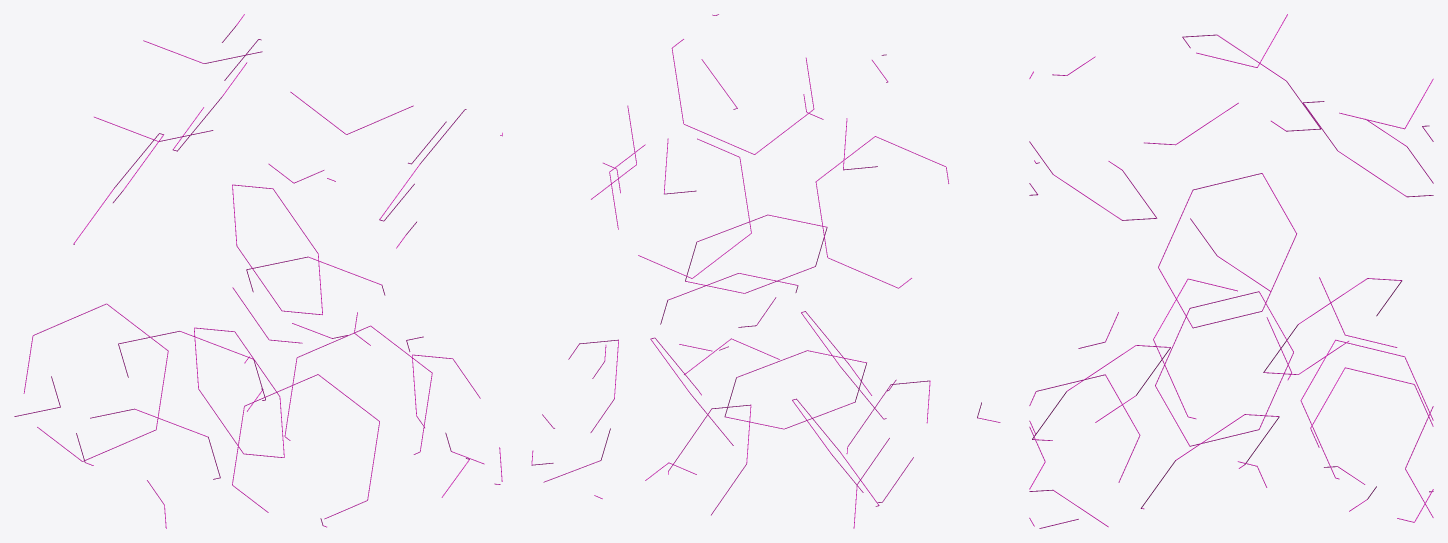
The model's file is large_DDD_model.glb.
The picture shows the model from 3 angles, left to right: view 1: azimuth 30°, elevation 25°; view 2: azimuth 150°, elevation 25°; view 3: azimuth 270°, elevation 25°; orthographic projection. The views are drawn at different scales.
Parts seen in each view (by area): view 1: Shape_IndexedLineSet.001; view 2: Shape_IndexedLineSet.001; view 3: Shape_IndexedLineSet.001.
Part boxes in pixels (bbox=[...]): Shape_IndexedLineSet.001: bbox=[14, 14, 502, 528]; Shape_IndexedLineSet.001: bbox=[531, 14, 1000, 528]; Shape_IndexedLineSet.001: bbox=[1029, 14, 1433, 528].
Bounding box in the file's own units: 10.02 × 10.02 × 10.02.
